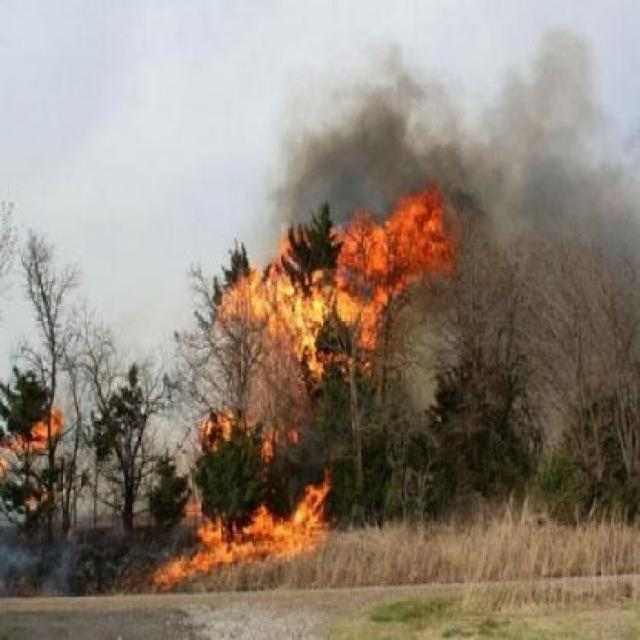Fire: (231, 220, 453, 387), (176, 448, 335, 594)
Smoke: (350, 55, 595, 202)
